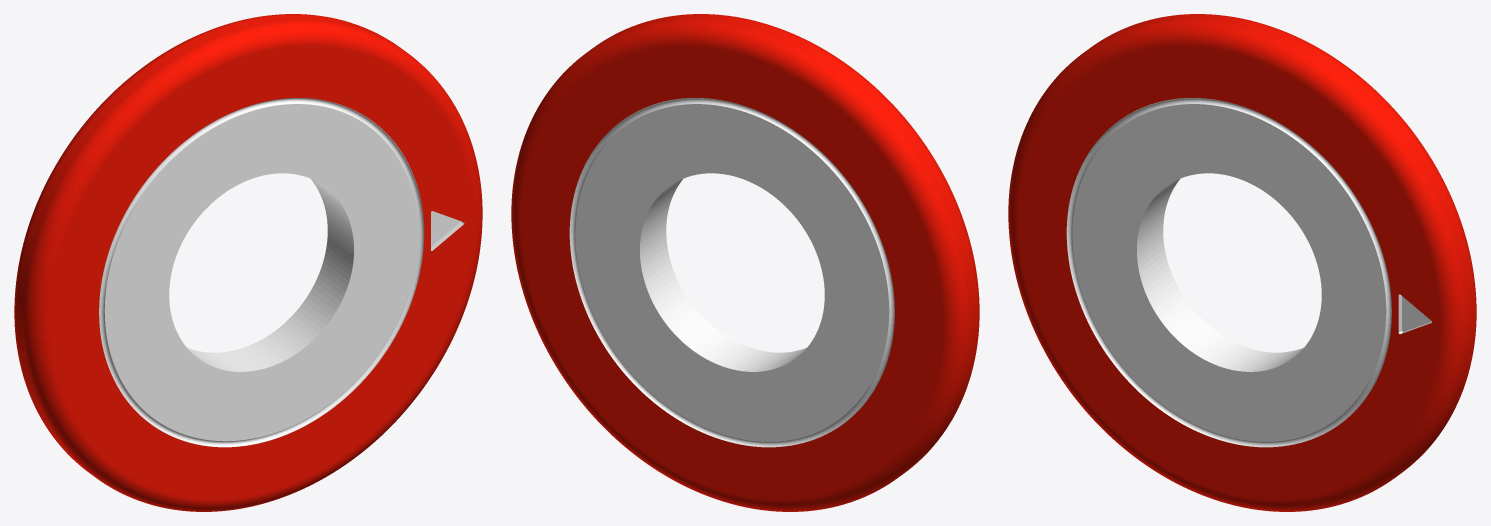
File: Guard.fbx
The picture shows the model from 3 angles, left to right: view 1: azimuth 30°, elevation 25°; view 2: azimuth 150°, elevation 25°; view 3: azimuth 330°, elevation 25°; orthographic projection.
Parts seen in each view (by area): view 1: Guard; view 2: Guard; view 3: Guard.
Part boxes in pixels (x1=…): Guard: x1=14, y1=14, x2=482, y2=511; Guard: x1=511, y1=14, x2=979, y2=511; Guard: x1=1008, y1=14, x2=1476, y2=511.
Bounding box in the file's own units: 8 × 8 × 0.8.
